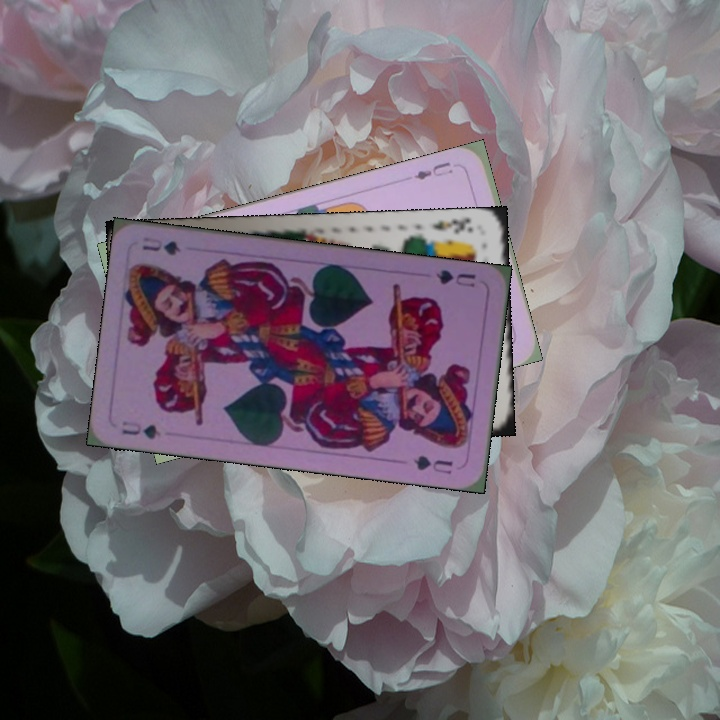EK: (428, 215, 476, 237)
EU: (410, 158, 456, 183)
GU: (431, 265, 479, 290), (118, 416, 163, 442)
